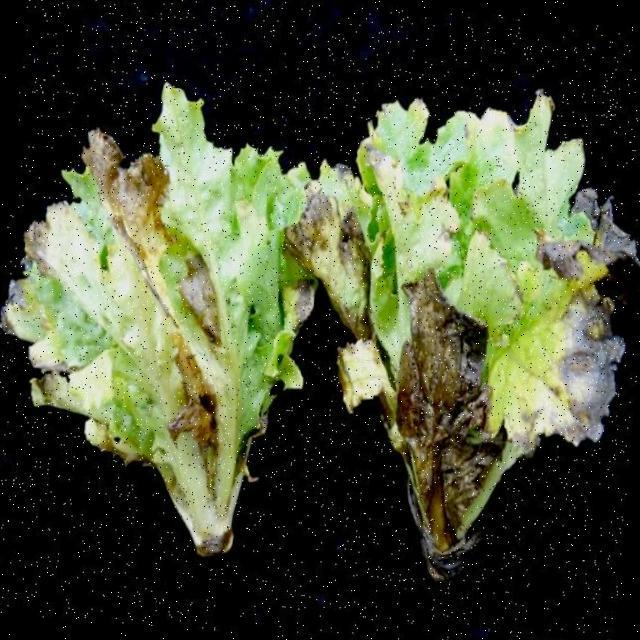Downy_mildew_on_lettuce: (295, 72, 640, 607), (0, 57, 337, 598)
